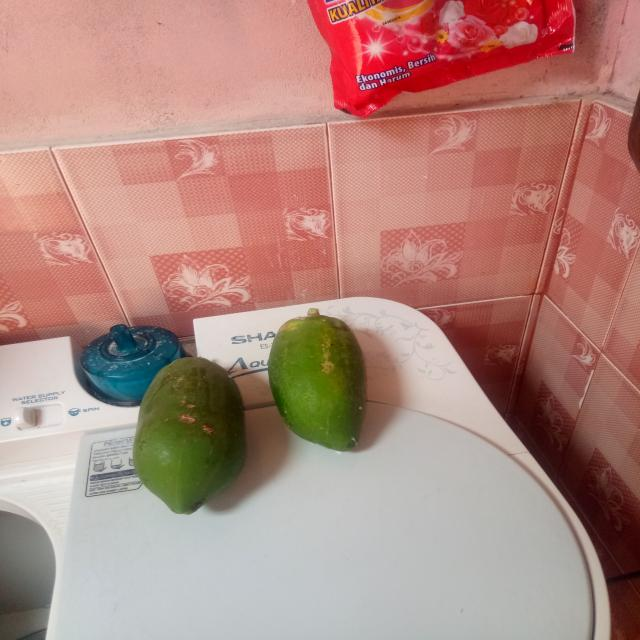Pepaya unrippen: (127, 351, 242, 518), (262, 310, 377, 456)
